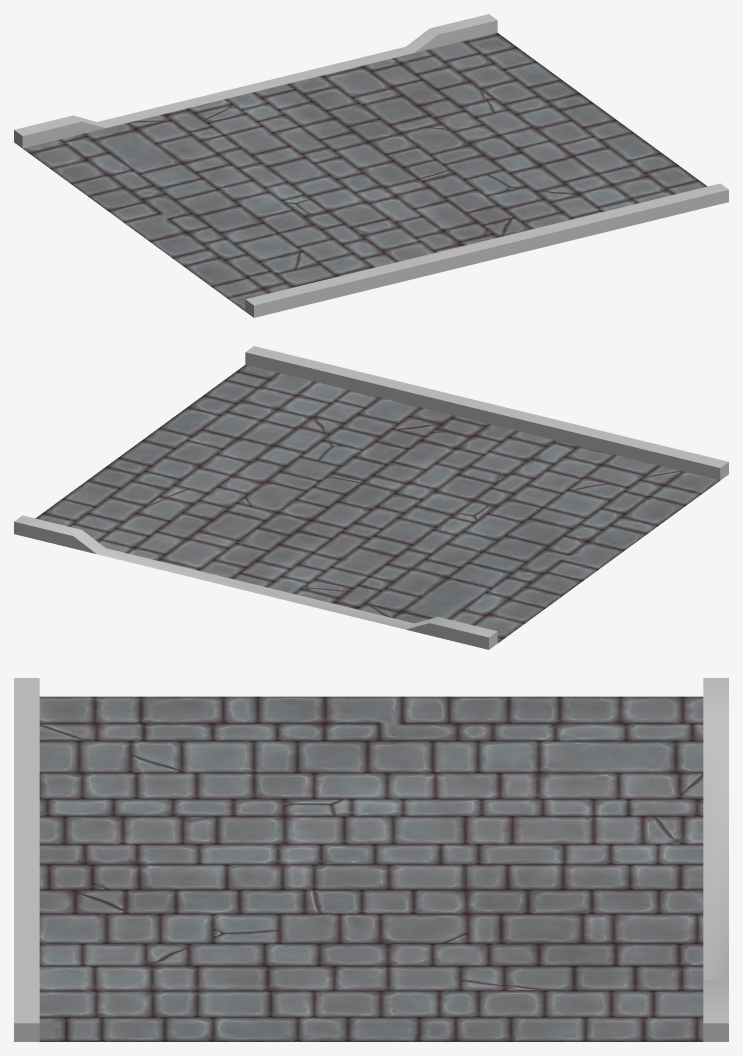
Rendered from Road_Open.FBX.
3 renders of one model, top to bottom at view 1: azimuth 30°, elevation 25°; view 2: azimuth 150°, elevation 25°; view 3: azimuth 270°, elevation 25°, orthographic. The views are drawn at different scales.
Parts seen in each view (by area): view 1: Road_Open; view 2: Road_Open; view 3: Road_Open.
Boxes of the visible parts, x1,y1,x2,y2 form: Road_Open: [14, 14, 728, 317]; Road_Open: [14, 346, 728, 649]; Road_Open: [14, 678, 728, 1041].
Bounding box in the file's own units: 315 × 7.87 × 276.
